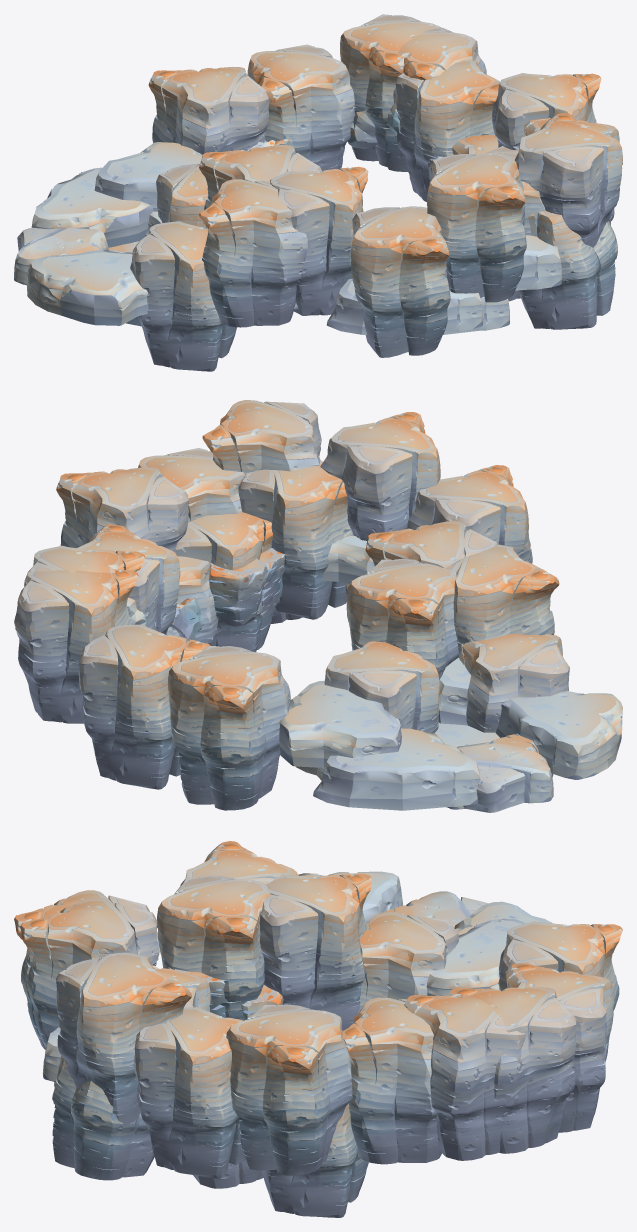
The model's file is SM_L4_shan_ shi.glb.
3 views of the same model, one above another, from view 1: azimuth 30°, elevation 25°; view 2: azimuth 150°, elevation 25°; view 3: azimuth 270°, elevation 25° (orthographic). The views are drawn at different scales.
Visible parts, largest first — view 1: TFD_Canyon_Cliff_01A_LOD0_1.001, TFD_Canyon_Cliff_01A_LOD0_14, TFD_Canyon_Cliff_01A_LOD0_1, TFD_Canyon_Cliff_01A_LOD0_15, TFD_Canyon_Cliff_01A_LOD0.002, TFD_Canyon_Cliff_01A_LOD0_7, TFD_Canyon_Cliff_01A_LOD0.001, TFD_Canyon_Cliff_01A_LOD0_8, TFD_Canyon_Cliff_01A_LOD0_12, TFD_Rock_Slab_02A_LOD0_3, TFD_Canyon_Cliff_01A_LOD0_2, TFD_Canyon_Cliff_01A_LOD0 (+14 smaller); view 2: TFD_Canyon_Cliff_01A_LOD0.001, TFD_Canyon_Cliff_01A_LOD0.002, TFD_Canyon_Cliff_01A_LOD0, TFD_Canyon_Cliff_01A_LOD0_4, TFD_Canyon_Cliff_01A_LOD0_1, TFD_Rock_Slab_02A_LOD0_6, TFD_Canyon_Cliff_01A_LOD0_12.001, TFD_Canyon_Cliff_01A_LOD0_3, TFD_Canyon_Cliff_01A_LOD0_14, TFD_Rock_Slab_02A_LOD0_3, TFD_Rock_Slab_02A_LOD0_2, TFD_Canyon_Cliff_01A_LOD0_15 (+16 smaller); view 3: TFD_Canyon_Cliff_01A_LOD0_3, TFD_Canyon_Cliff_01A_LOD0_5, TFD_Canyon_Cliff_01A_LOD0_12.001, TFD_Canyon_Cliff_01A_LOD0_7, TFD_Canyon_Cliff_01A_LOD0_12, TFD_Canyon_Cliff_01A_LOD0.003, TFD_Canyon_Cliff_01A_LOD0, TFD_Canyon_Cliff_01A_LOD0_8, TFD_Canyon_Cliff_01A_LOD0_1, TFD_Canyon_Cliff_01A_LOD0_2, TFD_Canyon_Cliff_01A_LOD0.002, TFD_Canyon_Cliff_01A_LOD0_13.001 (+13 smaller).
Boxes of the visible parts, bbox=[...] form: TFD_Canyon_Cliff_01A_LOD0_1.001: bbox=[350, 206, 450, 357]; TFD_Canyon_Cliff_01A_LOD0_14: bbox=[199, 179, 307, 327]; TFD_Canyon_Cliff_01A_LOD0_1: bbox=[427, 153, 526, 302]; TFD_Canyon_Cliff_01A_LOD0_15: bbox=[130, 221, 236, 371]; TFD_Canyon_Cliff_01A_LOD0.002: bbox=[247, 44, 355, 171]; TFD_Canyon_Cliff_01A_LOD0_7: bbox=[514, 113, 622, 247]; TFD_Canyon_Cliff_01A_LOD0.001: bbox=[148, 66, 269, 154]; TFD_Canyon_Cliff_01A_LOD0_8: bbox=[270, 166, 368, 315]; TFD_Canyon_Cliff_01A_LOD0_12: bbox=[395, 59, 500, 201]; TFD_Rock_Slab_02A_LOD0_3: bbox=[26, 250, 148, 325]; TFD_Canyon_Cliff_01A_LOD0_2: bbox=[518, 211, 617, 329]; TFD_Canyon_Cliff_01A_LOD0: bbox=[340, 14, 440, 167]; TFD_Canyon_Cliff_01A_LOD0.001: bbox=[168, 646, 290, 810]; TFD_Canyon_Cliff_01A_LOD0.002: bbox=[78, 624, 210, 789]; TFD_Canyon_Cliff_01A_LOD0: bbox=[14, 569, 138, 723]; TFD_Canyon_Cliff_01A_LOD0_4: bbox=[238, 460, 353, 619]; TFD_Canyon_Cliff_01A_LOD0_1: bbox=[320, 412, 440, 540]; TFD_Rock_Slab_02A_LOD0_6: bbox=[313, 728, 480, 810]; TFD_Canyon_Cliff_01A_LOD0_12.001: bbox=[346, 558, 459, 679]; TFD_Canyon_Cliff_01A_LOD0_3: bbox=[56, 467, 188, 554]; TFD_Canyon_Cliff_01A_LOD0_14: bbox=[446, 544, 559, 654]; TFD_Rock_Slab_02A_LOD0_3: bbox=[495, 691, 622, 779]; TFD_Rock_Slab_02A_LOD0_2: bbox=[279, 680, 401, 767]; TFD_Canyon_Cliff_01A_LOD0_15: bbox=[459, 634, 569, 777]; TFD_Canyon_Cliff_01A_LOD0_3: bbox=[226, 1004, 352, 1175]; TFD_Canyon_Cliff_01A_LOD0_5: bbox=[134, 1007, 244, 1178]; TFD_Canyon_Cliff_01A_LOD0_12.001: bbox=[259, 873, 372, 1031]; TFD_Canyon_Cliff_01A_LOD0_7: bbox=[56, 952, 191, 1126]; TFD_Canyon_Cliff_01A_LOD0_12: bbox=[342, 997, 441, 1164]; TFD_Canyon_Cliff_01A_LOD0.003: bbox=[404, 995, 530, 1160]; TFD_Canyon_Cliff_01A_LOD0: bbox=[448, 987, 576, 1153]; TFD_Canyon_Cliff_01A_LOD0_8: bbox=[157, 876, 270, 1020]; TFD_Canyon_Cliff_01A_LOD0_1: bbox=[20, 897, 159, 1047]; TFD_Canyon_Cliff_01A_LOD0_2: bbox=[52, 1056, 154, 1180]; TFD_Canyon_Cliff_01A_LOD0.002: bbox=[505, 963, 613, 1132]; TFD_Canyon_Cliff_01A_LOD0_13.001: bbox=[356, 911, 458, 1015].
Bounding box in the file's own units: 194 × 70.15 × 170.
Materials: 1 (1 with a texture image).
